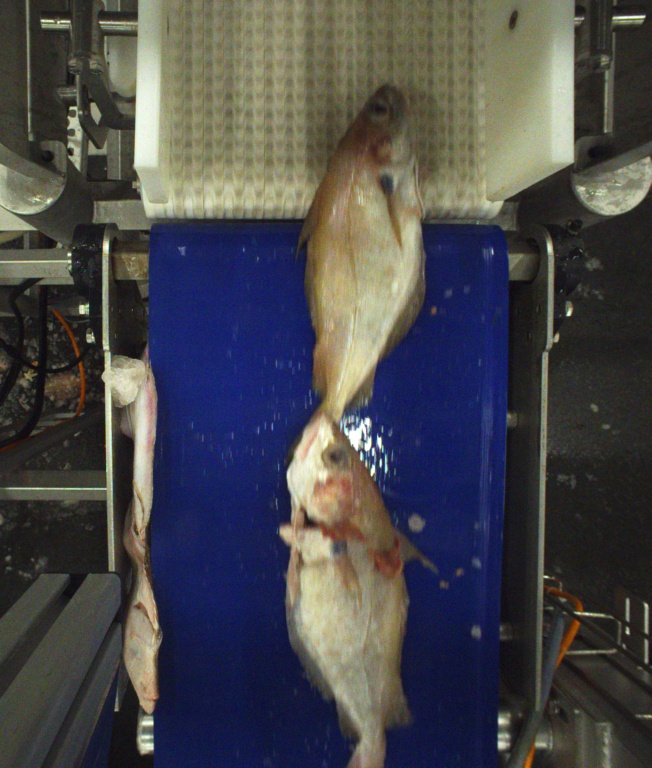BIB: (286, 420, 416, 768)
